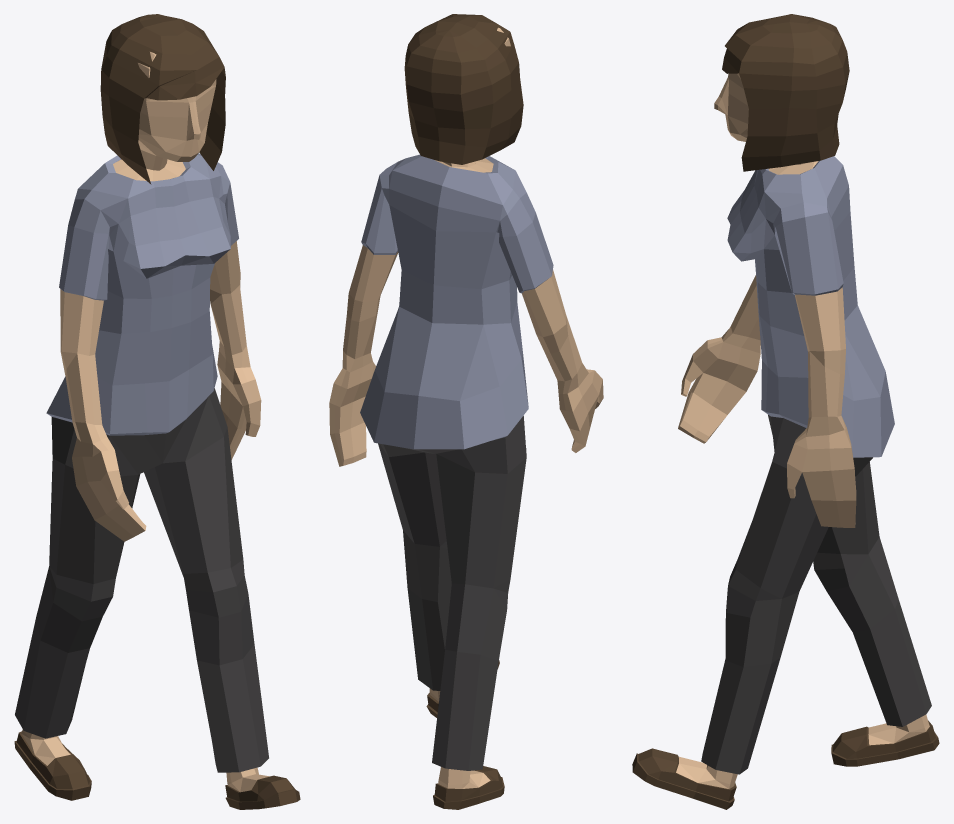
The model's file is Female_Walking.glb.
3 renders of one model, left to right at view 1: azimuth 30°, elevation 25°; view 2: azimuth 150°, elevation 25°; view 3: azimuth 270°, elevation 25°, orthographic. The views are drawn at different scales.
Parts seen in each view (by area): view 1: Female_Walking; view 2: Female_Walking; view 3: Female_Walking.
Part boxes in pixels (x1,y1,x2,y2): Female_Walking: (14, 14, 300, 809); Female_Walking: (329, 14, 603, 809); Female_Walking: (632, 14, 939, 809).
Size of the model in its own units: 0.4748 by 1.67 by 0.6067.
